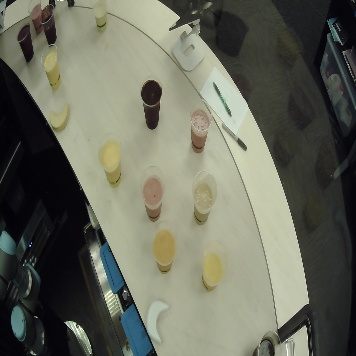full_cup: (138, 164, 168, 226), (199, 237, 230, 297), (190, 169, 219, 232), (97, 133, 125, 192), (187, 100, 215, 158), (139, 75, 165, 136), (152, 219, 179, 276), (37, 43, 65, 90), (39, 3, 62, 48), (251, 327, 285, 356), (16, 22, 37, 67), (27, 1, 47, 36), (92, 1, 110, 34)
puck: (143, 297, 174, 345), (47, 104, 78, 134)
